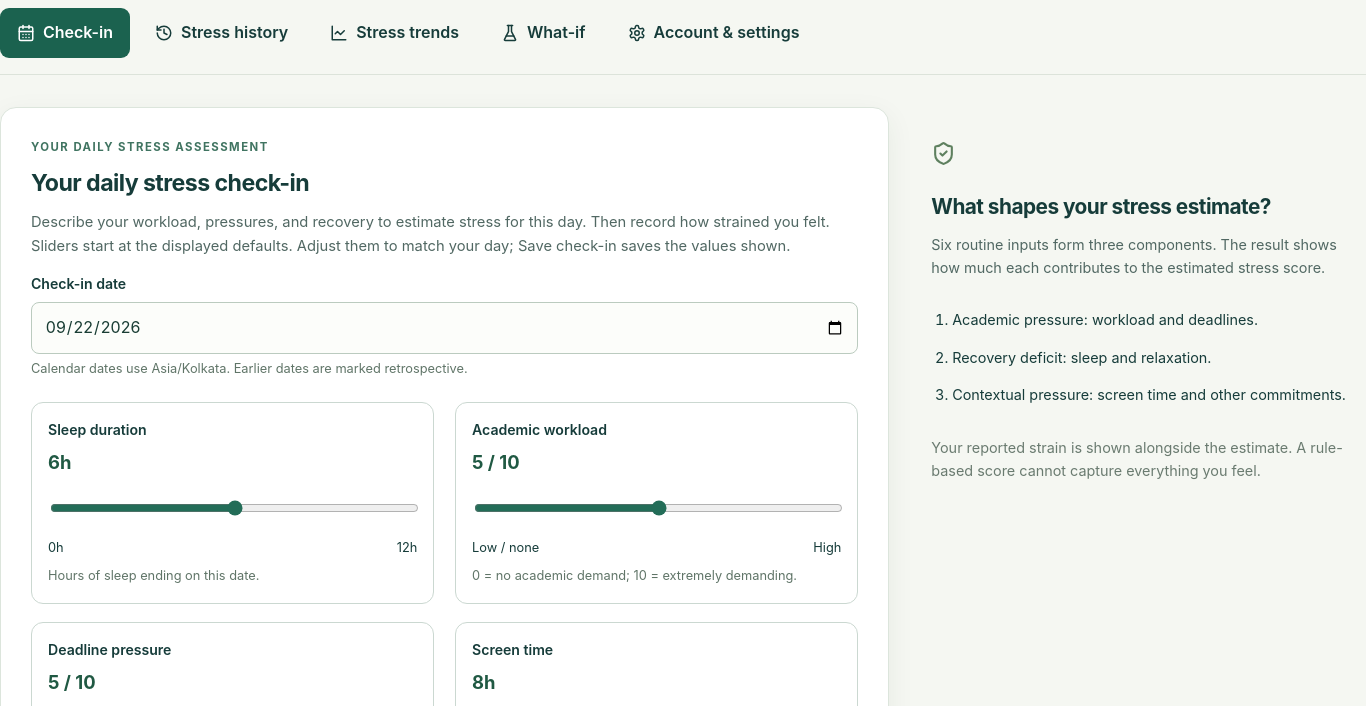
it: shows recorded weekly averages before comparisons are ready
Click the button "Stress trends" at (395, 33), box x1=313 y1=8 x2=476 y2=58
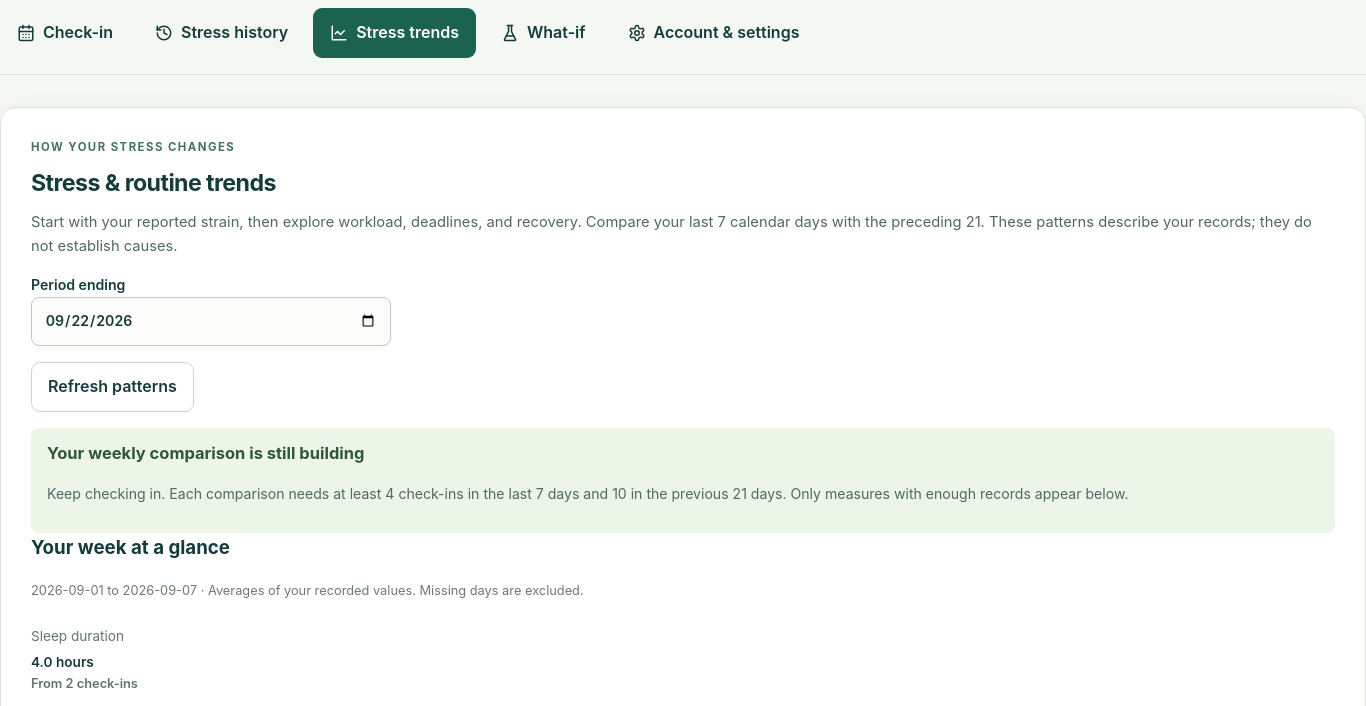
Check: the heading "Your week at a glance" is shown, box x1=31 y1=536 x2=230 y2=559
Check: the text "4.0 hours" is shown, box x1=31 y1=654 x2=138 y2=691
Check: the text "From 2 check-ins" is shown, box x1=31 y1=676 x2=138 y2=691
